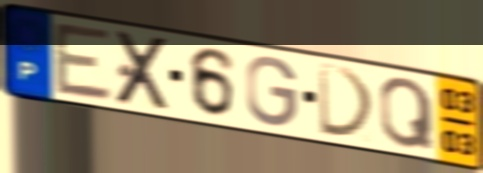6: (186, 45, 236, 120)
D: (315, 60, 379, 141)
E: (51, 20, 115, 105)
G: (244, 54, 301, 129)
Q: (377, 75, 437, 153)
X: (112, 28, 174, 113)
